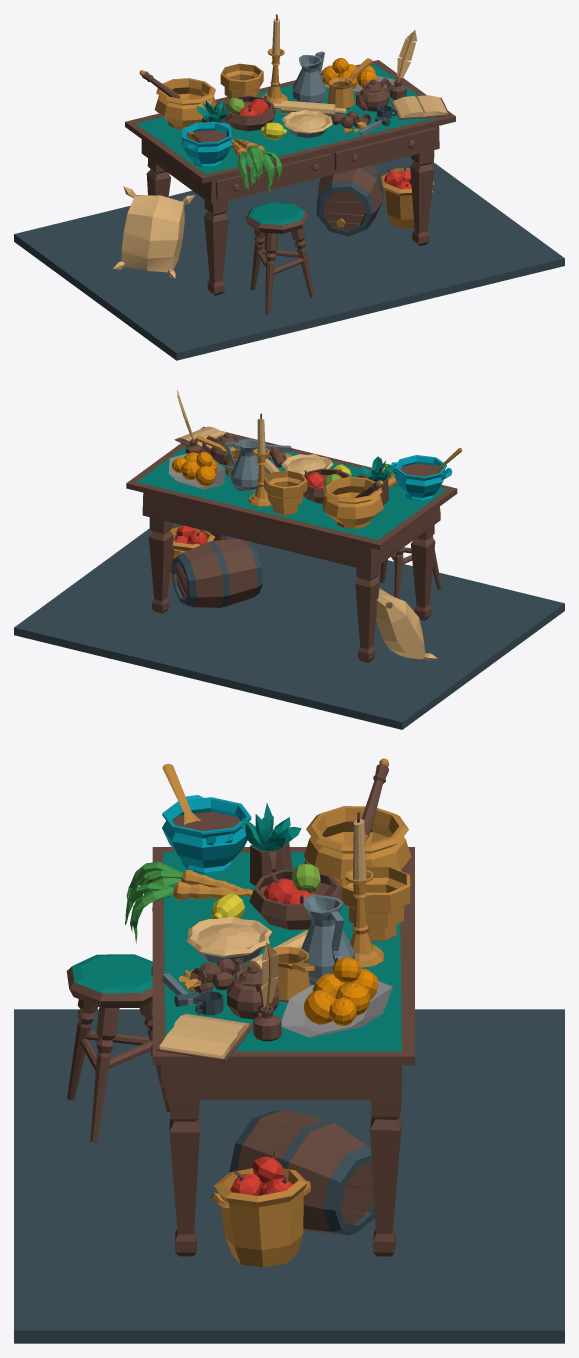
File: DiningTable.glb
The picture shows the model from 3 angles, top to bottom: view 1: azimuth 30°, elevation 25°; view 2: azimuth 150°, elevation 25°; view 3: azimuth 270°, elevation 25°; orthographic projection. The views are drawn at different scales.
Visible parts, largest first — view 1: node_MeshObject384823296-PolyPaper20; view 2: node_MeshObject384823296-PolyPaper20; view 3: node_MeshObject384823296-PolyPaper20.
Boxes of the visible parts, x1,y1,x2,y2 form: node_MeshObject384823296-PolyPaper20: [14, 14, 564, 360]; node_MeshObject384823296-PolyPaper20: [14, 390, 564, 729]; node_MeshObject384823296-PolyPaper20: [14, 758, 564, 1343].
Bounding box in the file's own units: 3.2 × 1.75 × 2.32.
